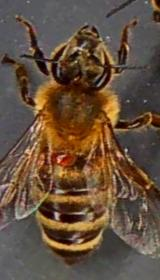varroa_mite: (49, 145, 80, 166)
